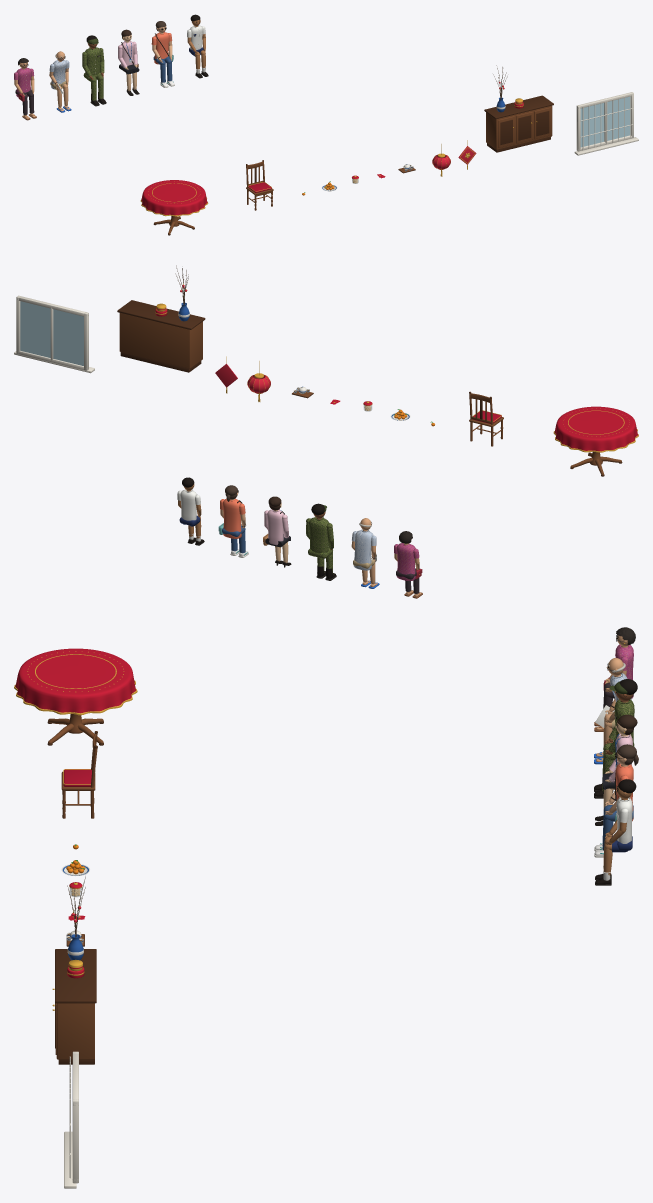
Rendered from bigtwo-assets.glb.
The picture shows the model from 3 angles, top to bottom: view 1: azimuth 30°, elevation 25°; view 2: azimuth 150°, elevation 25°; view 3: azimuth 270°, elevation 25°; orthographic projection. The views are drawn at different scales.
Parts seen in each view (by area): view 1: ClothTop, Glass, CabBase, Frame, Cabinet, Char_ns_Sit_Mesh, Char_parent_Sit_Mesh, Char_worker_b_Sit_Mesh, Char_aunty_Sit_Mesh, Char_uncle_Sit_Mesh, Char_student_a_Sit_Mesh, Apron; view 2: Cabinet, Glass, ClothTop, Frame, Char_ns_Sit_Mesh, CabBase, Char_parent_Sit_Mesh, Char_aunty_Sit_Mesh, Char_uncle_Sit_Mesh, Char_worker_b_Sit_Mesh, Char_student_a_Sit_Mesh, Apron; view 3: ClothTop, Cabinet, CabBase, Char_student_a_Sit_Mesh, Frame, Char_ns_Sit_Mesh, Char_parent_Sit_Mesh, Char_aunty_Sit_Mesh, Char_worker_b_Sit_Mesh, Char_uncle_Sit_Mesh, Foot.
Boxes of the visible parts, box(x1,y1,x2,y2) form: ClothTop: box(141, 180, 207, 215); Glass: box(580, 96, 630, 147); CabBase: box(484, 95, 553, 152); Frame: box(574, 92, 638, 155); Cabinet: box(486, 105, 552, 149); Char_ns_Sit_Mesh: box(82, 35, 106, 106); Char_parent_Sit_Mesh: box(151, 21, 174, 87); Char_worker_b_Sit_Mesh: box(118, 29, 139, 95); Char_aunty_Sit_Mesh: box(14, 58, 36, 120); Char_uncle_Sit_Mesh: box(49, 51, 71, 112); Char_student_a_Sit_Mesh: box(187, 14, 208, 78); Apron: box(246, 161, 273, 210); Cabinet: box(119, 313, 202, 368); Glass: box(20, 301, 83, 365); ClothTop: box(554, 406, 637, 451); Frame: box(14, 295, 94, 373); Char_ns_Sit_Mesh: box(306, 503, 336, 580); CabBase: box(117, 300, 205, 372); Char_parent_Sit_Mesh: box(218, 485, 248, 557); Char_aunty_Sit_Mesh: box(394, 531, 422, 598); Char_uncle_Sit_Mesh: box(351, 518, 379, 588); Char_worker_b_Sit_Mesh: box(263, 496, 291, 567); Char_student_a_Sit_Mesh: box(177, 477, 204, 545); Apron: box(469, 393, 503, 446); ClothTop: box(15, 648, 136, 713); Cabinet: box(55, 1003, 94, 1059); CabBase: box(55, 949, 96, 1064); Char_student_a_Sit_Mesh: box(595, 779, 636, 885); Frame: box(64, 1051, 78, 1188); Char_ns_Sit_Mesh: box(594, 679, 637, 798); Char_parent_Sit_Mesh: box(594, 744, 638, 857); Char_aunty_Sit_Mesh: box(594, 627, 635, 731); Char_worker_b_Sit_Mesh: box(595, 714, 637, 825); Char_uncle_Sit_Mesh: box(594, 658, 631, 764); Foot: box(48, 714, 103, 743).
Bounding box in the file's own units: 11.39 × 2.34 × 6.89.
Materials: 85 (6 with a texture image).
